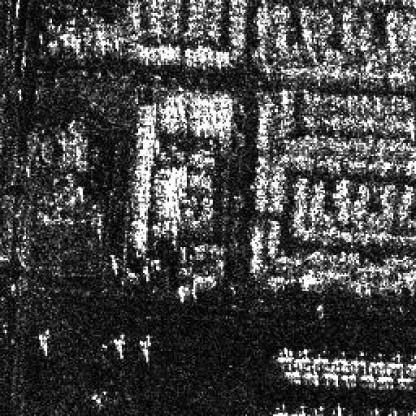airplane: (294, 346, 312, 371), (310, 351, 330, 371), (366, 354, 386, 374), (281, 366, 302, 385), (330, 354, 349, 374), (276, 346, 294, 367), (350, 351, 366, 374), (387, 353, 406, 372), (320, 370, 340, 387), (302, 369, 320, 387), (396, 372, 414, 390), (377, 370, 393, 388), (341, 372, 358, 387), (359, 372, 375, 385), (406, 353, 414, 372)
